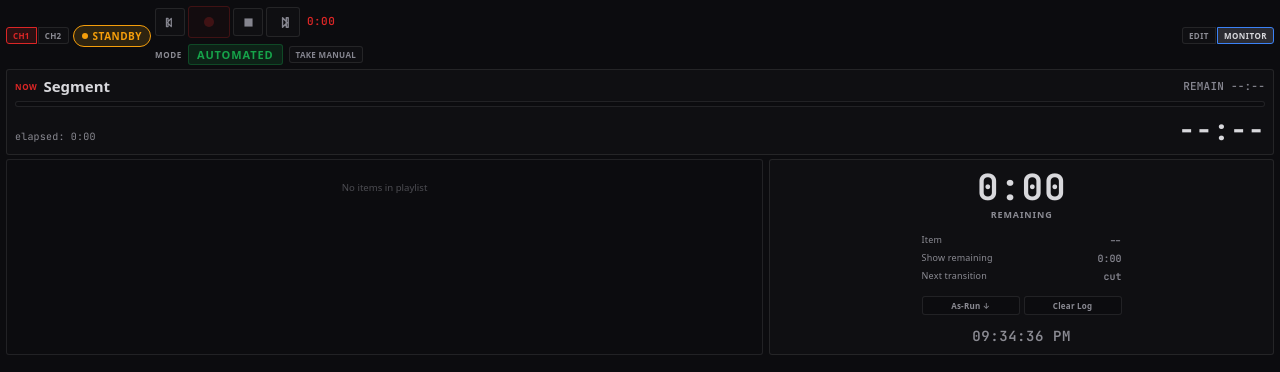
Test: PlayoutPanel › shows item counter in edit mode
Note: Force edit mode (auto-switches to monitor when on-air)
Click the button with class "mode-btn-toggle" showing "EDIT".
click(1199, 36)  # box [1182,27,1216,44]
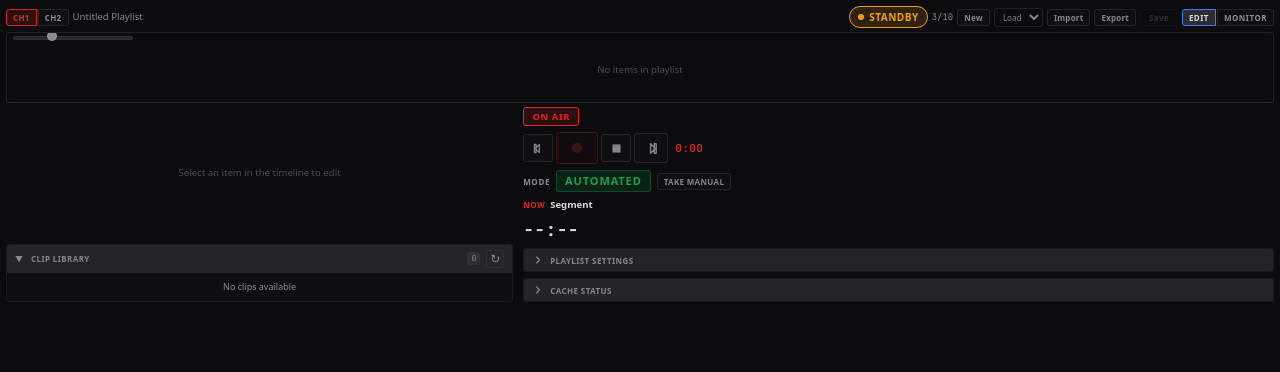
Check: the text "3/10" is shown, box [932,11,953,23]
